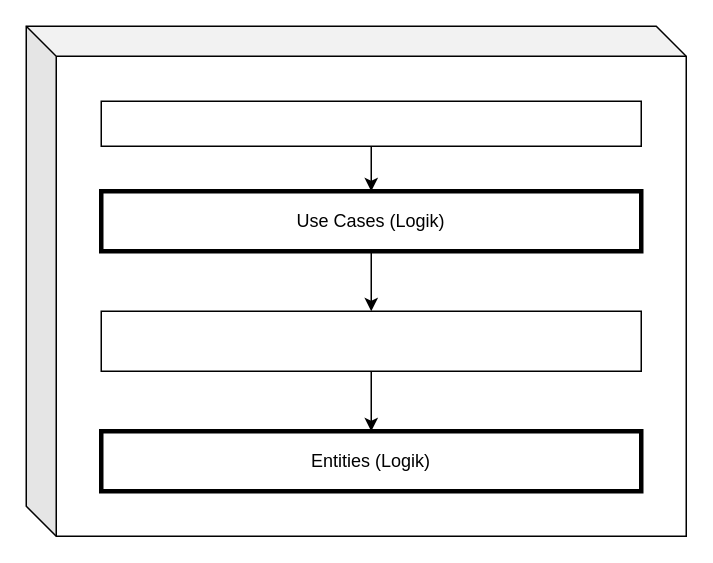
This 713x563 diagram has some shape labels left out. Each missing label, with the centre of its shape:
API: the point at 370,123
Services (Logik): the point at 370,340
